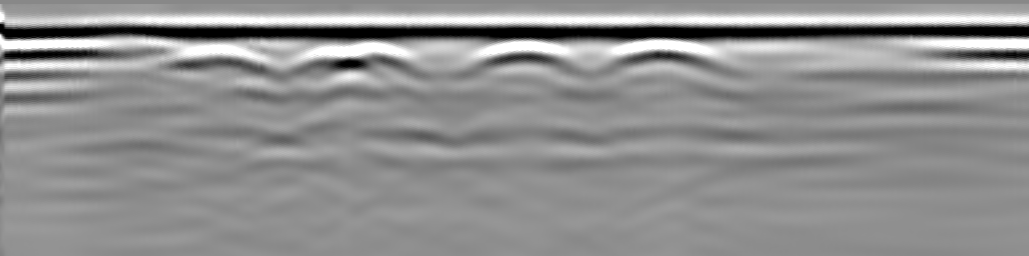steel: (604, 41, 731, 68), (468, 42, 582, 68), (303, 44, 415, 70), (170, 45, 271, 72)
